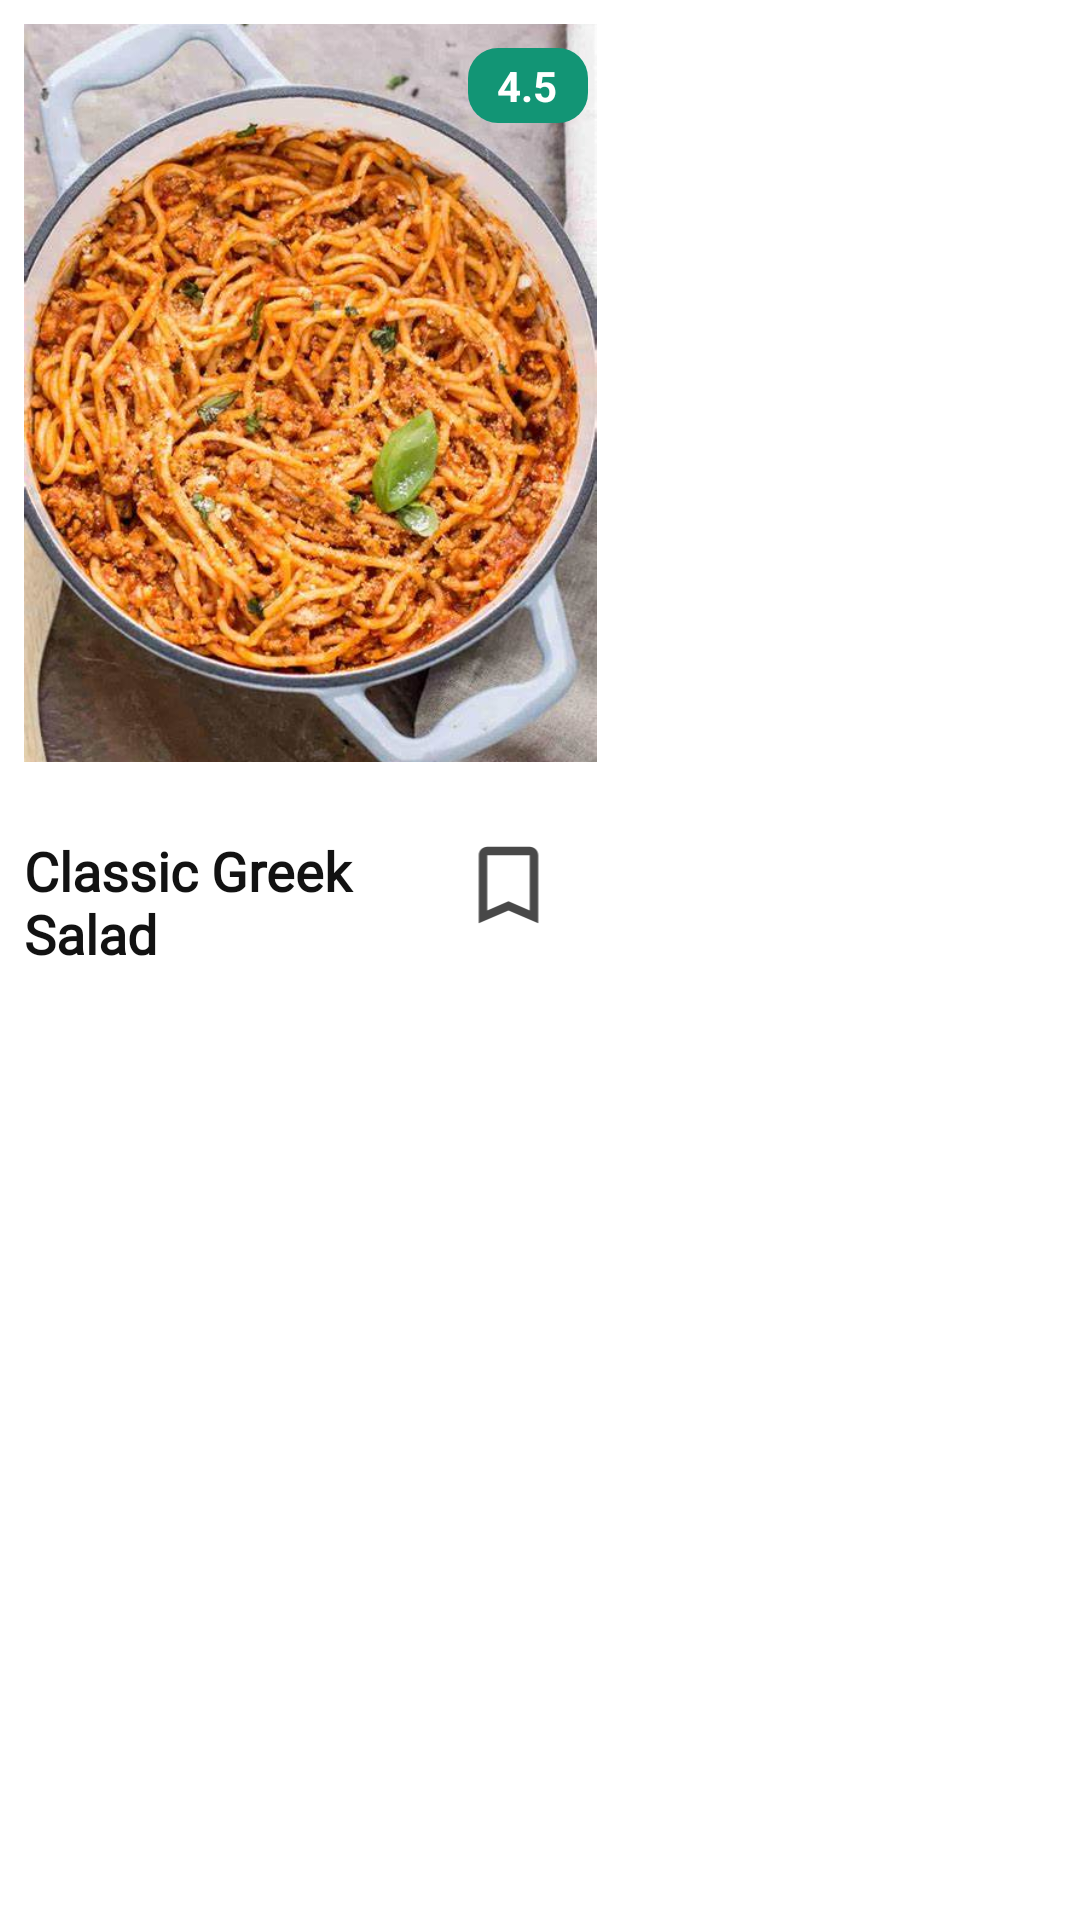

Where icons sit on this 1080px×1920px app screen, as (x1, y1, x2, y2):
bookmark border: (478, 846, 539, 923)
